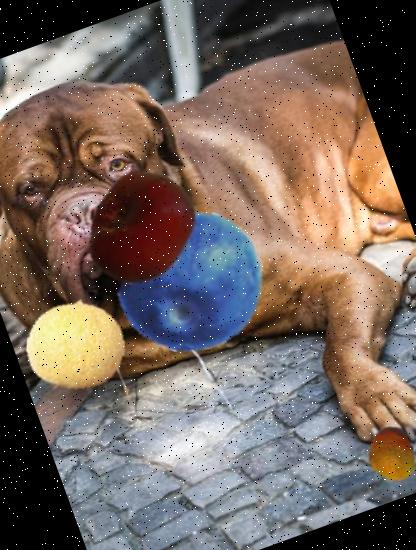Cantaloupe: (12, 280, 140, 408)
Huckleberry: (100, 188, 284, 374)
Mandarine: (355, 418, 416, 490)
Nectarine: (69, 155, 215, 301)
